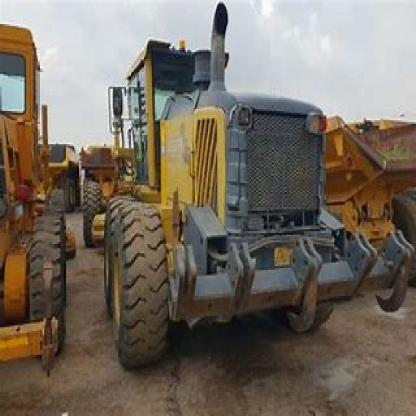bull_dozer/loader/grader: (71, 17, 388, 374)
